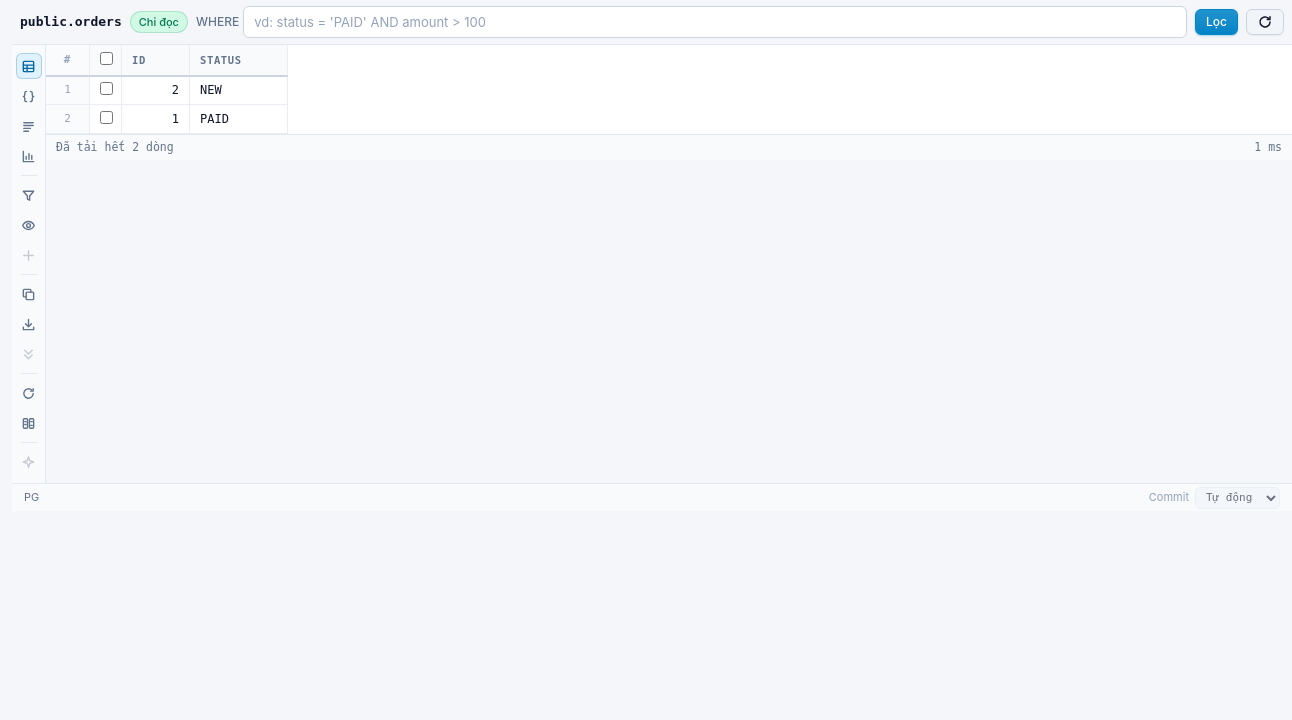
result grid › read-only connection: no editing
Expected: the table named "Kết quả truy vấn" is shown, [46,45,288,134]
Double-click the text "NEW": (239, 90) [190,76,288,105]
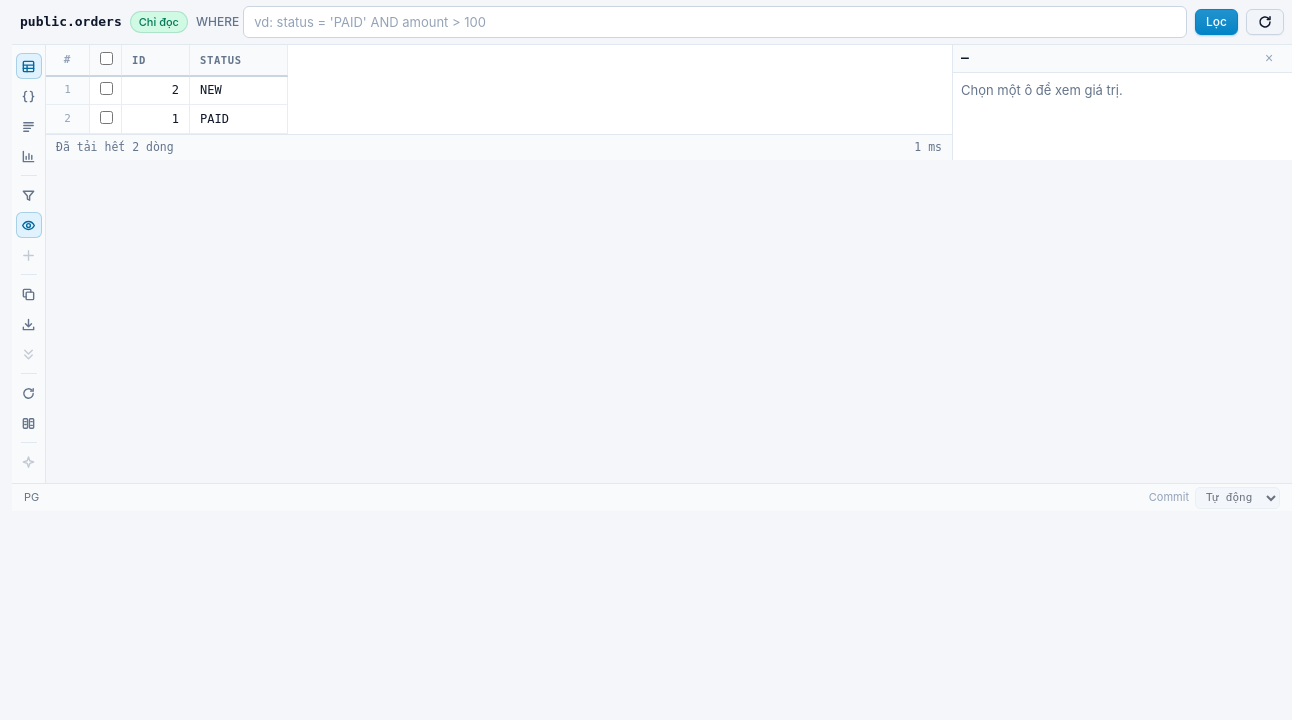
Expected: the element named "Khung xem giá trị" is shown, [952,45,1291,160]
